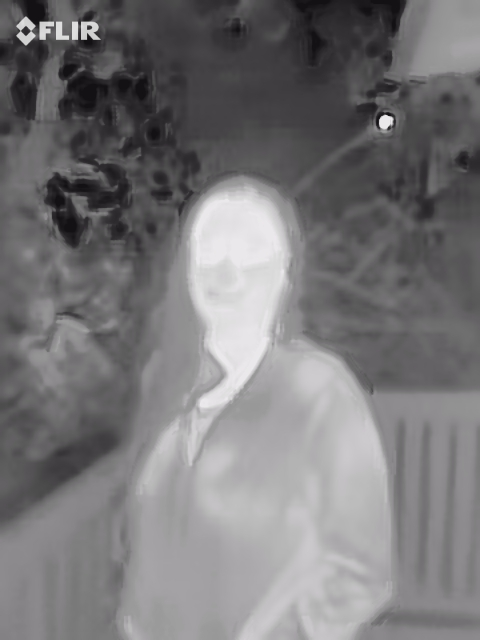head: (178, 176, 291, 338)
